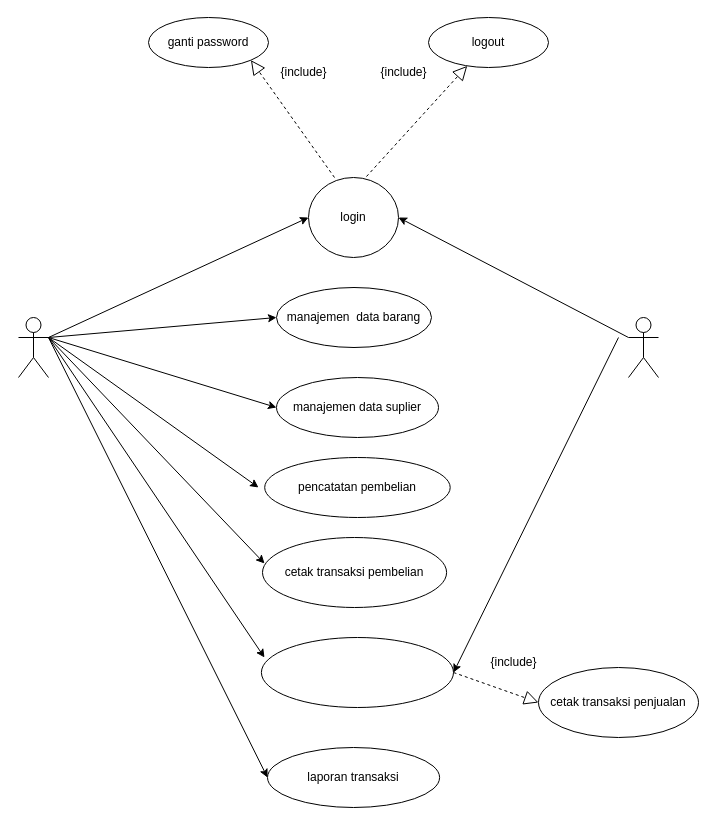
This 716x825 diagram has some shape labels left out. Here are the shapes that lost their labels. From the top down, the centre of each, then its label:
(x=33, y=347): admin
(x=643, y=347): kasir
(x=357, y=672): membuka transaksi penjualan
